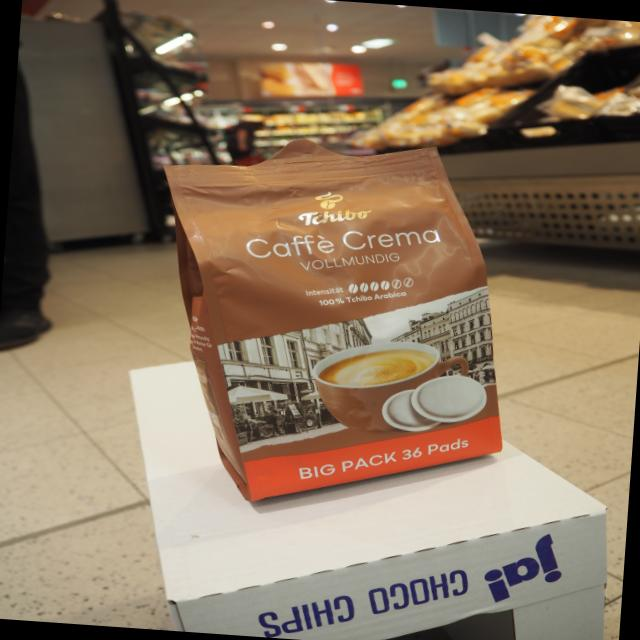CC Vollmundig: (133, 118, 513, 519)
